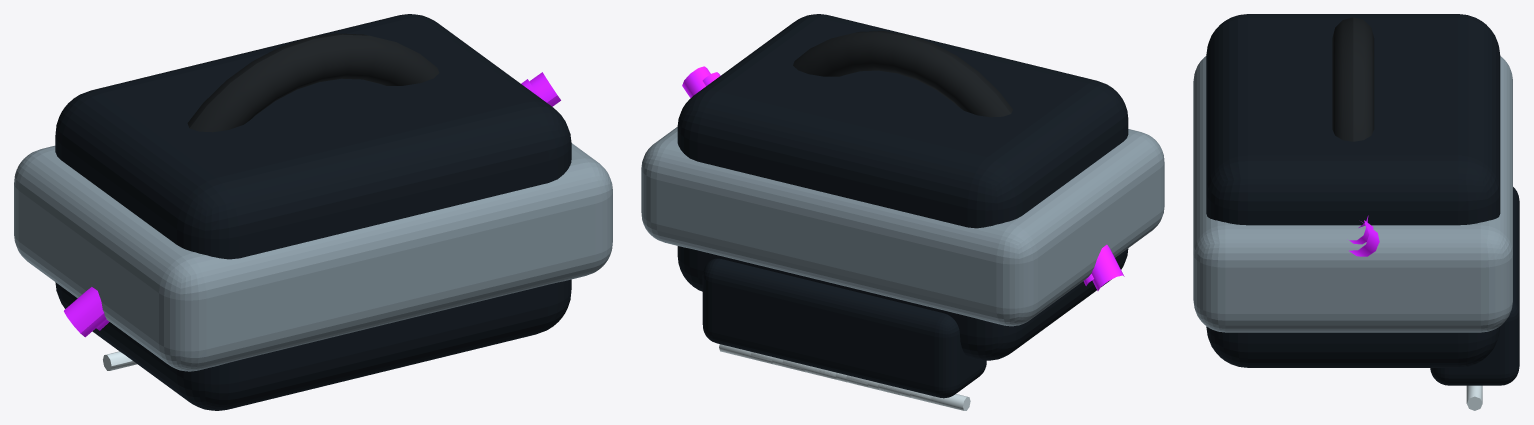
The model's file is electrical_16.glb.
3 renders of one model, left to right at view 1: azimuth 30°, elevation 25°; view 2: azimuth 150°, elevation 25°; view 3: azimuth 270°, elevation 25°, orthographic. The views are drawn at different scales.
Visible parts, largest first — view 1: asset_mesh__electrical_0935__reference_body, asset_mesh__electrical_0926__controller_case, asset_mesh__electrical_0944__service_element, asset_mesh__electrical_0940__current_path; view 2: asset_mesh__electrical_0935__reference_body, asset_mesh__electrical_0926__controller_case, asset_mesh__electrical_0926__connector_bank, asset_mesh__electrical_0944__service_element, asset_mesh__electrical_0940__current_path, asset_mesh__electrical_0926__pin_1; view 3: asset_mesh__electrical_0935__reference_body, asset_mesh__electrical_0926__controller_case, asset_mesh__electrical_0944__service_element, asset_mesh__electrical_0926__connector_bank, asset_mesh__electrical_0940__current_path, asset_mesh__electrical_0926__pin_7.
Boxes of the visible parts, x1,y1,x2,y2 form: asset_mesh__electrical_0935__reference_body: (55,14,571,410); asset_mesh__electrical_0926__controller_case: (14,143,612,371); asset_mesh__electrical_0944__service_element: (187,33,439,132); asset_mesh__electrical_0940__current_path: (64,72,560,337); asset_mesh__electrical_0935__reference_body: (677,14,1128,360); asset_mesh__electrical_0926__controller_case: (641,127,1164,326); asset_mesh__electrical_0926__connector_bank: (702,258,986,398); asset_mesh__electrical_0944__service_element: (793,31,1012,117); asset_mesh__electrical_0940__current_path: (682,66,1124,290); asset_mesh__electrical_0926__pin_1: (910,392,970,410); asset_mesh__electrical_0935__reference_body: (1206,14,1500,367); asset_mesh__electrical_0926__controller_case: (1193,56,1512,332); asset_mesh__electrical_0944__service_element: (1332,17,1374,141); asset_mesh__electrical_0926__connector_bank: (1430,187,1519,385); asset_mesh__electrical_0940__current_path: (1349,221,1379,256); asset_mesh__electrical_0926__pin_7: (1466,385,1482,410).
Size of the model in its own units: 1.37 by 0.9164 by 0.8568.
